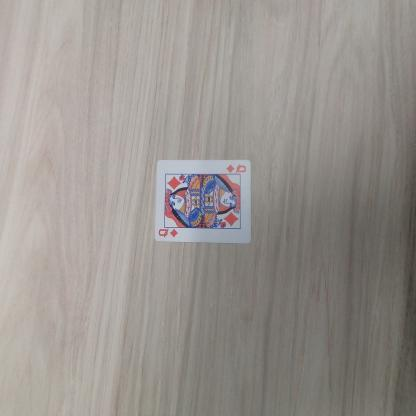QD: (221, 160, 249, 176), (156, 225, 180, 242)
